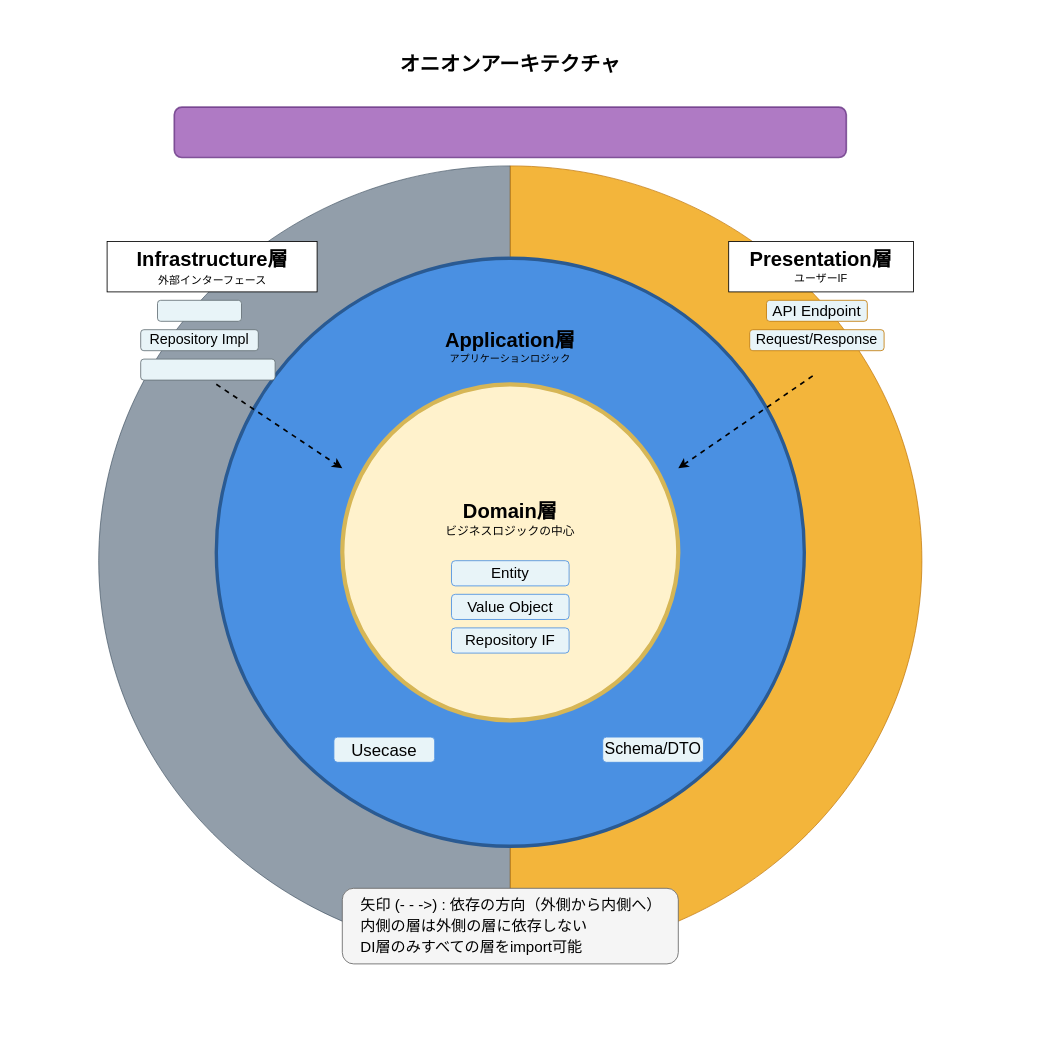
This 1037x1037 diagram has some shape labels left out. Each missing label, with the centre of its shape:
"AWS S3, CloudFront" goes at point (207, 369).
"DB Model" goes at point (199, 310).
"DI層 (依存性注入) すべての層を接続・依存関係を解決" goes at point (510, 132).
